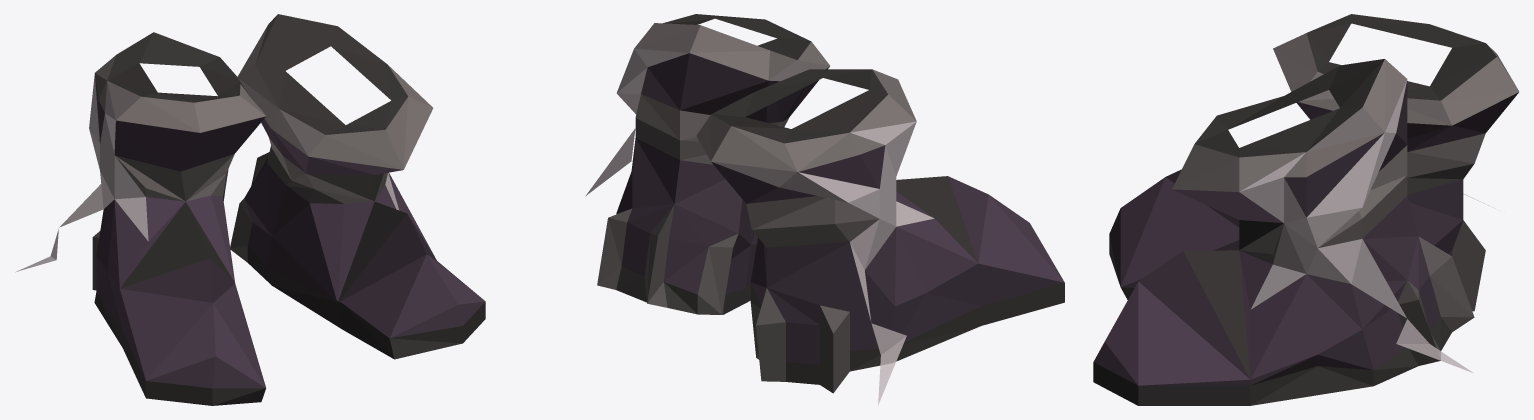
Rendered from player_aranea_boots.glb.
The picture shows the model from 3 angles, left to right: view 1: azimuth 30°, elevation 25°; view 2: azimuth 150°, elevation 25°; view 3: azimuth 270°, elevation 25°; orthographic projection. The views are drawn at different scales.
Bounding box in the file's own units: 42 × 31.49 × 38.
Materials: 2 (2 with a texture image).
